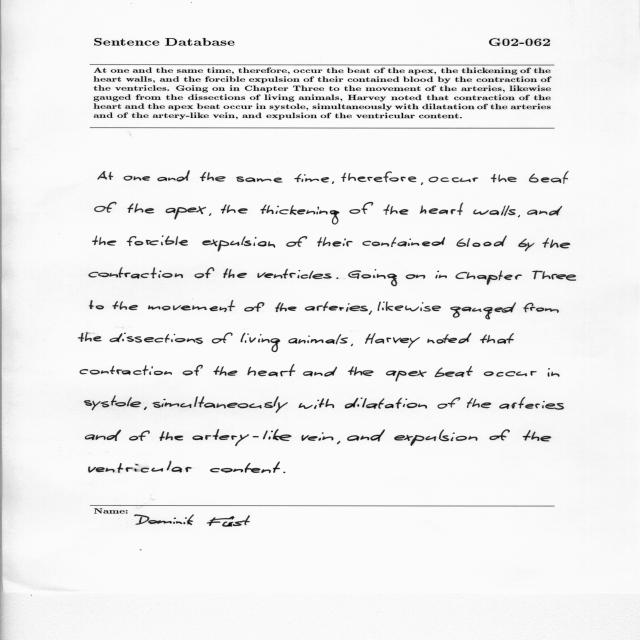word: (152, 396, 288, 413), (193, 429, 292, 446), (260, 205, 340, 225), (394, 429, 478, 446), (89, 461, 192, 473), (202, 236, 275, 252), (89, 267, 183, 279), (450, 303, 516, 320), (148, 300, 235, 312), (109, 333, 203, 344), (455, 270, 522, 285), (80, 365, 172, 375), (345, 398, 427, 409), (84, 396, 141, 411), (499, 397, 564, 410), (348, 269, 397, 286), (342, 172, 417, 183), (365, 333, 420, 348), (363, 237, 445, 247), (210, 462, 280, 473), (241, 333, 281, 352), (257, 269, 332, 279), (305, 302, 368, 312), (378, 302, 441, 312), (248, 364, 296, 377), (126, 236, 188, 246), (288, 334, 348, 344), (166, 206, 207, 220), (456, 236, 507, 247), (529, 171, 569, 184), (420, 203, 463, 215), (532, 270, 576, 281), (428, 333, 472, 344), (347, 430, 385, 442), (386, 371, 426, 382), (473, 206, 516, 216), (435, 366, 473, 377), (85, 430, 121, 441), (299, 398, 334, 409), (480, 333, 514, 344), (157, 171, 190, 182), (317, 237, 353, 247), (523, 303, 559, 313), (527, 206, 562, 216), (303, 367, 337, 377), (237, 176, 283, 183), (484, 371, 537, 377), (294, 174, 329, 183), (523, 430, 551, 441), (301, 432, 334, 441), (350, 202, 374, 214), (128, 203, 154, 214), (383, 204, 409, 215), (543, 238, 571, 248), (221, 204, 248, 214), (438, 397, 460, 409), (200, 172, 226, 182), (348, 366, 374, 376), (213, 366, 238, 376), (429, 177, 478, 182), (95, 202, 117, 213), (93, 236, 117, 246), (223, 269, 247, 279), (467, 398, 491, 408), (160, 431, 184, 441), (112, 301, 138, 310), (287, 236, 308, 247), (212, 333, 233, 344), (182, 365, 203, 376), (129, 430, 150, 441), (489, 430, 510, 441), (518, 239, 535, 252), (195, 268, 215, 279), (275, 303, 297, 313), (491, 174, 517, 182), (79, 333, 102, 342), (245, 302, 265, 312), (98, 171, 113, 180), (124, 176, 151, 181), (89, 301, 104, 310), (548, 368, 560, 377), (435, 271, 447, 279), (406, 274, 425, 279), (369, 311, 372, 315), (144, 407, 147, 410), (337, 441, 340, 444), (332, 181, 334, 184), (421, 182, 423, 185), (209, 213, 211, 216), (518, 215, 520, 217), (337, 278, 339, 280), (351, 344, 353, 346), (283, 472, 285, 473)
